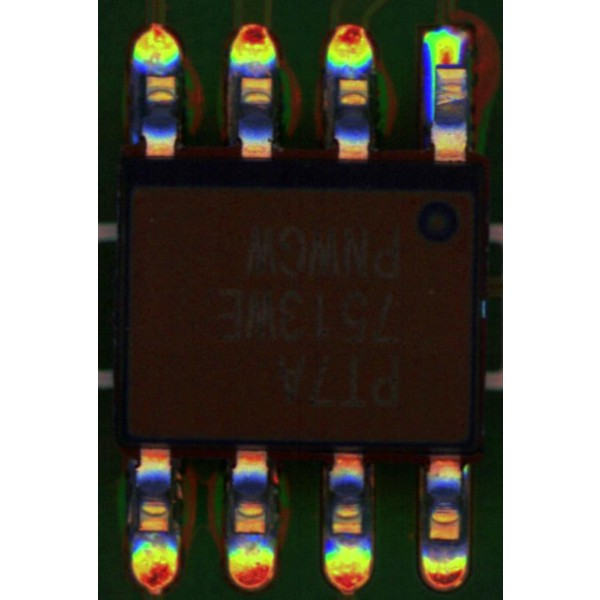Bad_podu: (436, 49, 459, 79)
